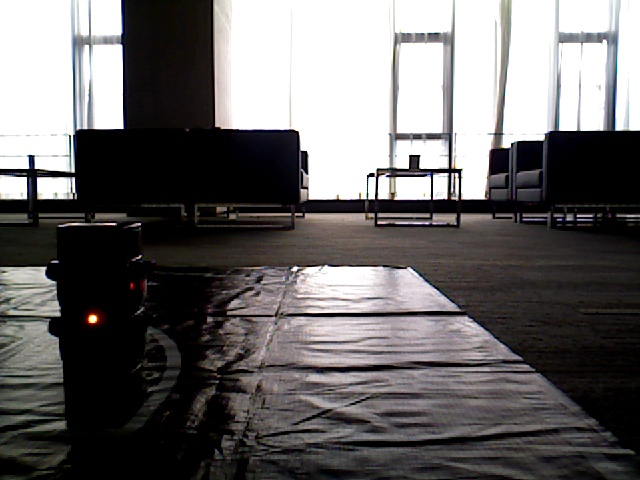yellow: (57, 229, 126, 380)
